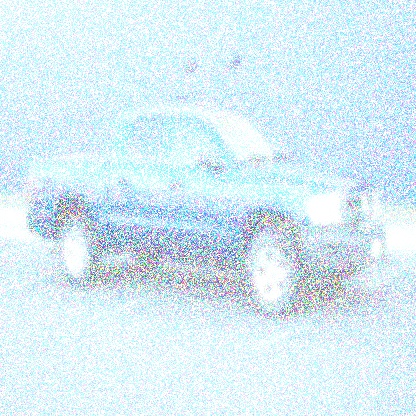Vehicle: (26, 104, 391, 322)
